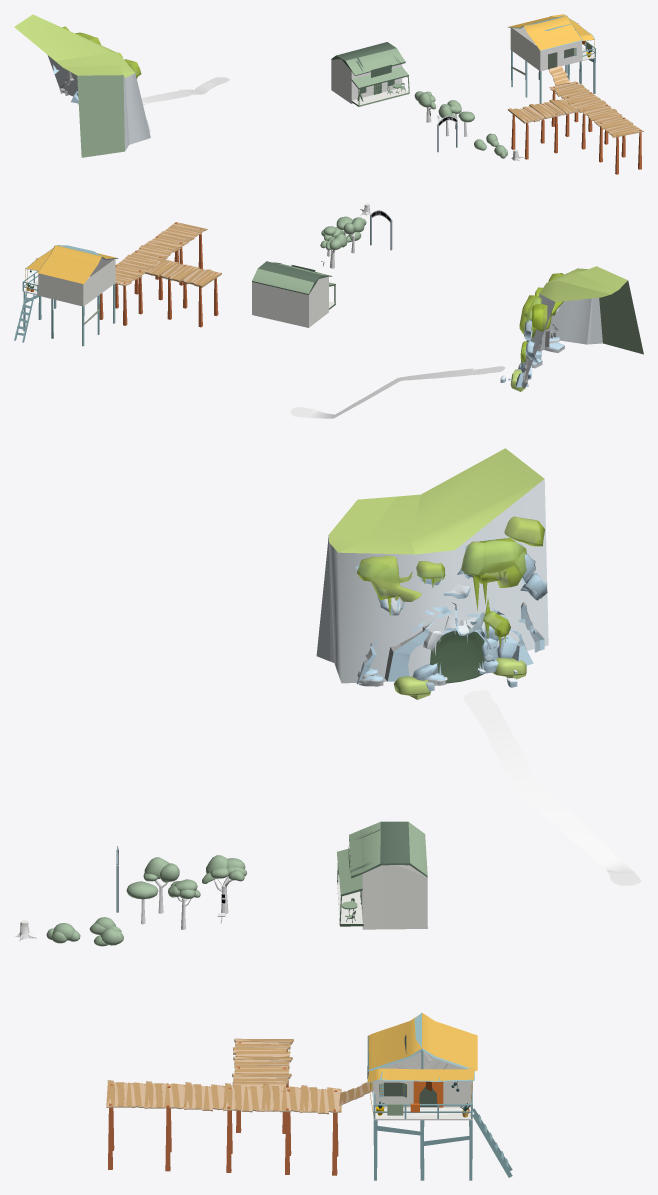
Rendered from townExtraImportv2.fbx.
3 views of the same model, one above another, from view 1: azimuth 30°, elevation 25°; view 2: azimuth 150°, elevation 25°; view 3: azimuth 270°, elevation 25° (orthographic). The views are drawn at different scales.
Parts seen in each view (by area): view 1: caveCliff_OBJ, dockPlanks_OBJ, dockShadows_OBJ, pubPlaceholder_OBJ, elweHouseRoof_OBJ1, phouseBase_GRP, pantherPath_OBJ2, pCube242, pCube243, pCube78; view 2: caveCliff_OBJ, pubPlaceholder_OBJ, dockPlanks_OBJ, dockShadows_OBJ, phouseBase_GRP, elweHouseRoof_OBJ1, pantherPath_OBJ2, pCube311, pCube309; view 3: caveCliff_OBJ, dockPlanks_OBJ, pubPlaceholder_OBJ, dockShadows_OBJ, pantherPath_OBJ2, elweHouseRoof_OBJ1, pCube309, caveEntrance_OBJ, pCube312, pCube78, phouseBase_GRP, pCube290 (+1 smaller).
Boxes of the visible parts, left/top/right/bottom form: caveCliff_OBJ: left=14, top=14, right=150, bottom=157; dockPlanks_OBJ: left=508, top=65, right=643, bottom=137; dockShadows_OBJ: left=508, top=65, right=643, bottom=137; pubPlaceholder_OBJ: left=331, top=42, right=405, bottom=103; elweHouseRoof_OBJ1: left=507, top=15, right=583, bottom=50; phouseBase_GRP: left=510, top=27, right=581, bottom=71; pantherPath_OBJ2: left=141, top=77, right=229, bottom=105; pCube242: left=351, top=66, right=408, bottom=88; pCube243: left=351, top=88, right=409, bottom=106; pCube78: left=550, top=14, right=595, bottom=41; caveCliff_OBJ: left=523, top=266, right=643, bottom=386; pubPlaceholder_OBJ: left=252, top=261, right=332, bottom=327; dockPlanks_OBJ: left=115, top=222, right=221, bottom=287; dockShadows_OBJ: left=115, top=222, right=221, bottom=287; phouseBase_GRP: left=38, top=258, right=115, bottom=306; elweHouseRoof_OBJ1: left=37, top=245, right=118, bottom=284; pantherPath_OBJ2: left=290, top=366, right=505, bottom=418; pCube311: left=531, top=303, right=551, bottom=331; pCube309: left=519, top=295, right=541, bottom=337; caveCliff_OBJ: left=316, top=448, right=548, bottom=683; dockPlanks_OBJ: left=106, top=1039, right=373, bottom=1114; pubPlaceholder_OBJ: left=349, top=821, right=427, bottom=929; dockShadows_OBJ: left=106, top=1038, right=373, bottom=1112; pantherPath_OBJ2: left=463, top=690, right=641, bottom=885; elweHouseRoof_OBJ1: left=367, top=1013, right=477, bottom=1071; pCube309: left=461, top=538, right=526, bottom=587; caveEntrance_OBJ: left=430, top=630, right=484, bottom=683; pCube312: left=357, top=555, right=421, bottom=601; pCube78: left=367, top=1067, right=474, bottom=1083; phouseBase_GRP: left=373, top=1080, right=472, bottom=1107; pCube290: left=384, top=620, right=434, bottom=681.
Bounding box in the file's own units: 380 × 122 × 227.
